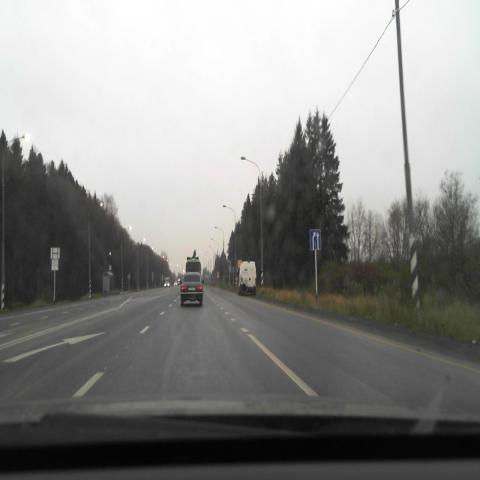5_15_5: (310, 229, 322, 250)
